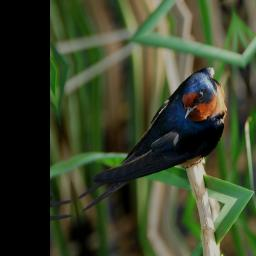Swallow: (63, 59, 238, 215)
